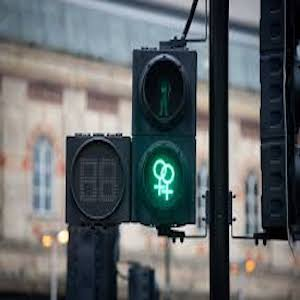green: (149, 152, 183, 205)
